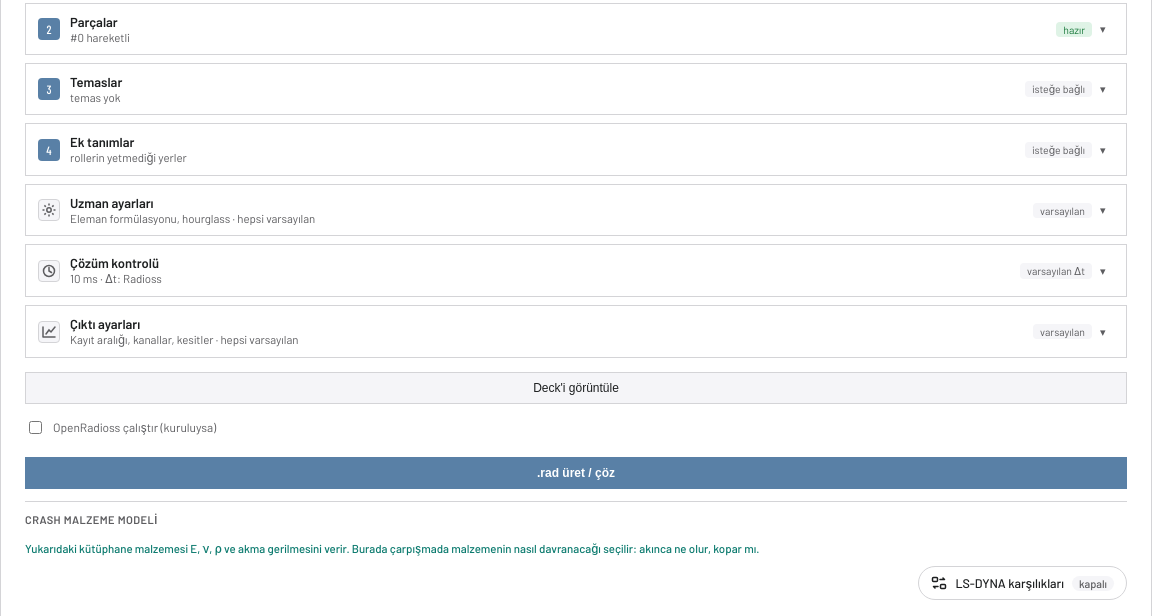
Test case: CrashPanel › 1.15d: engine / th / sections gönderir; kesit ve Δt sonuçlarını gösterir
(page scrolled)
Click the button "Çıktı ayarları": (105, 324) [26,306,1126,357]
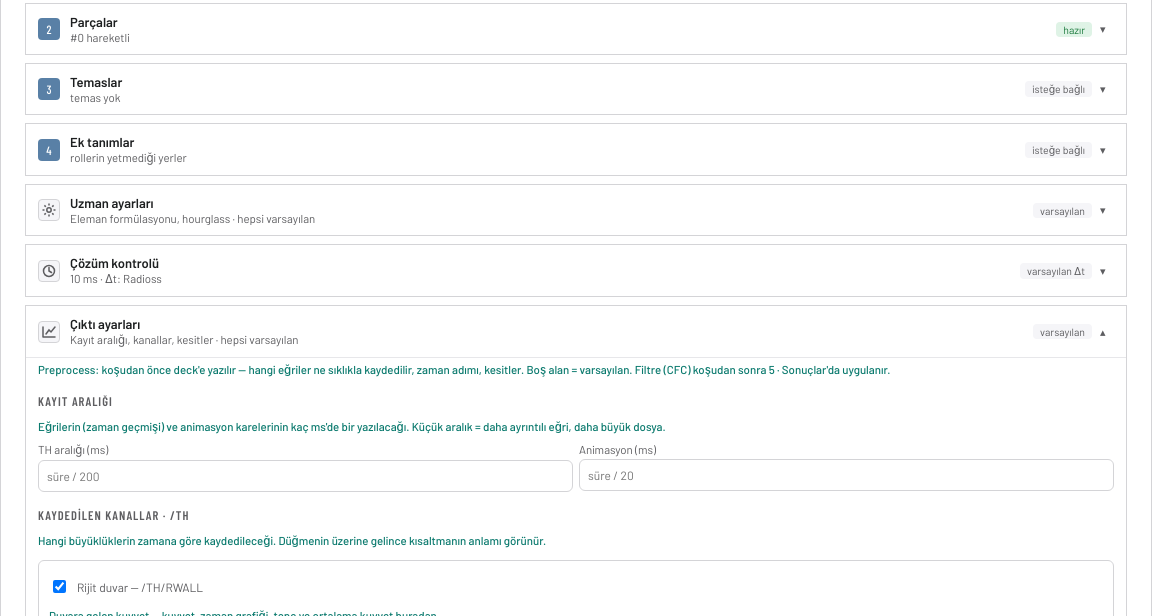
In the field labelled "TH aralığı (ms)": (306, 476) [38,460,573,492], type "0.002"
(page scrolled)
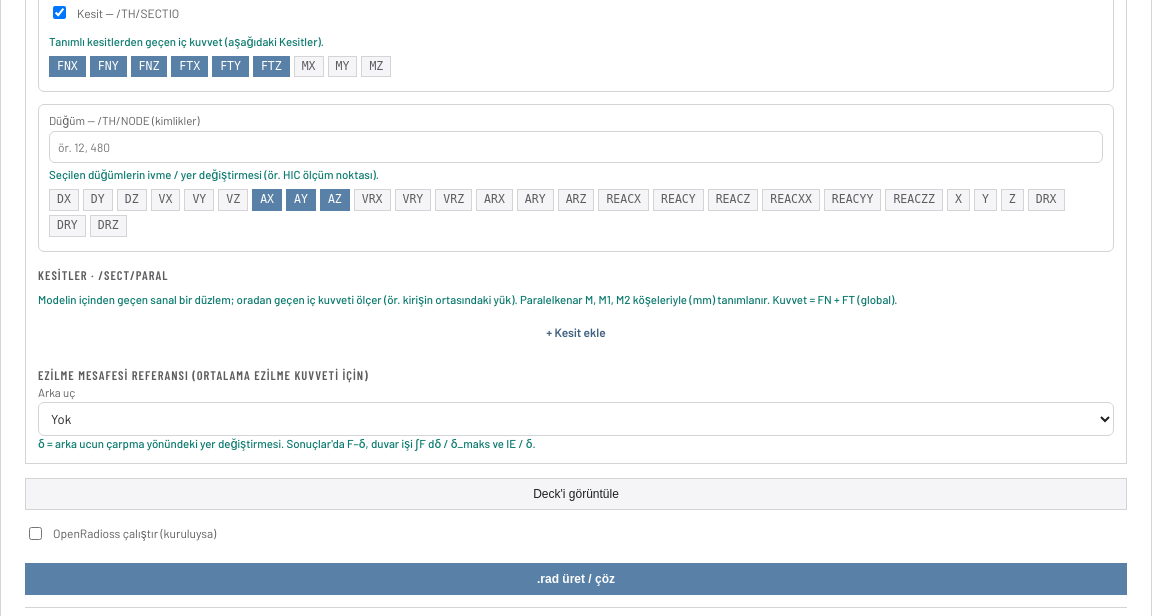
Click the button "+ Kesit ekle": (576, 332) [38,318,1114,346]
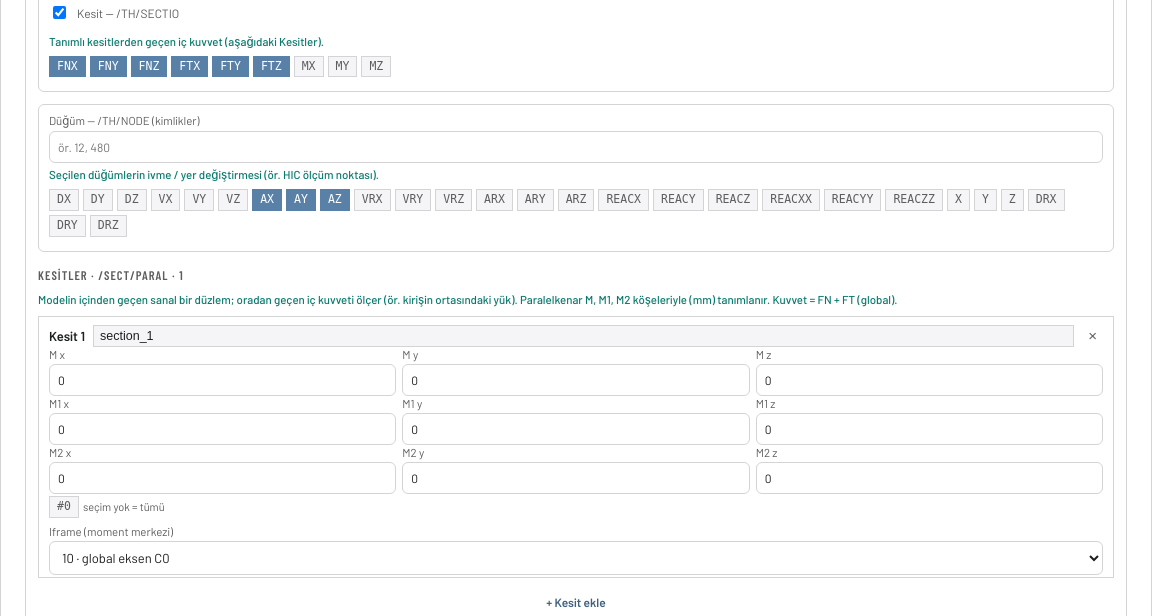
Replace the text in the field named "Kesit 1 M1 y" with "60": (576, 429) [402,413,750,445]
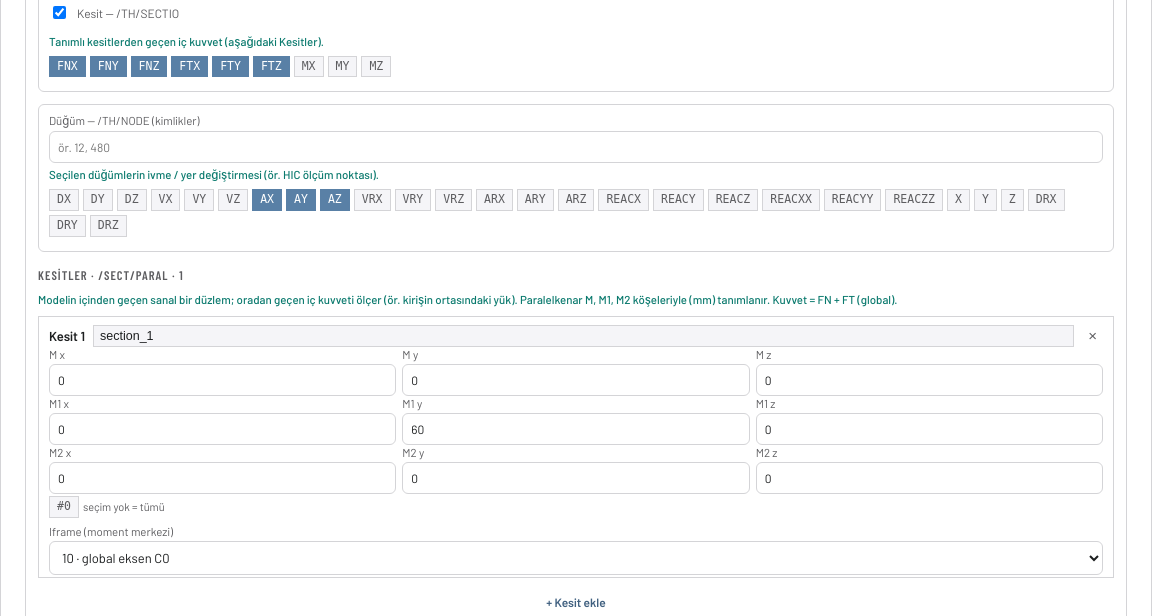
Replace the text in the field named "Kesit 1 M2 z" with "60": (929, 478) [756,462,1103,494]
(page scrolled)
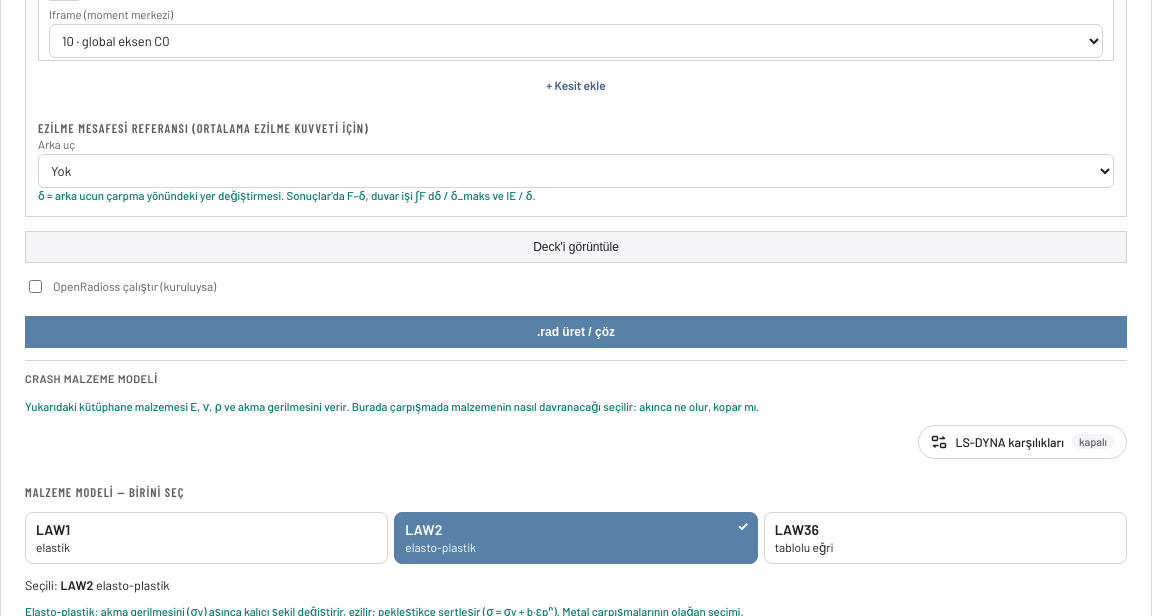
Click the button ".rad üret / çöz": (576, 332) [25,316,1127,348]
(page scrolled)
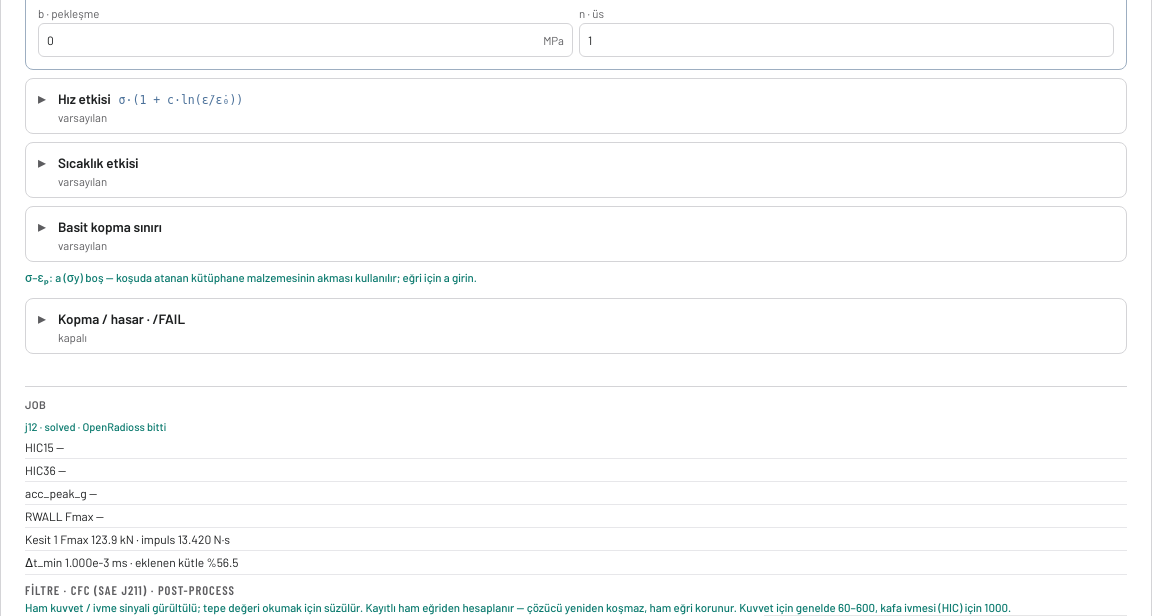
Check: the list item "Kesit 1 Fmax 123.9 kN · impuls 13.420 N·s" is shown, box [25,528,1127,551]
Check: the list item with test id "crash-timestep" reads "Δt_min 1.000e-3 ms · eklenen kütle %56.5", box [25,551,1127,575]
